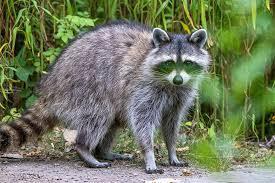raccoon: (0, 12, 219, 178)
